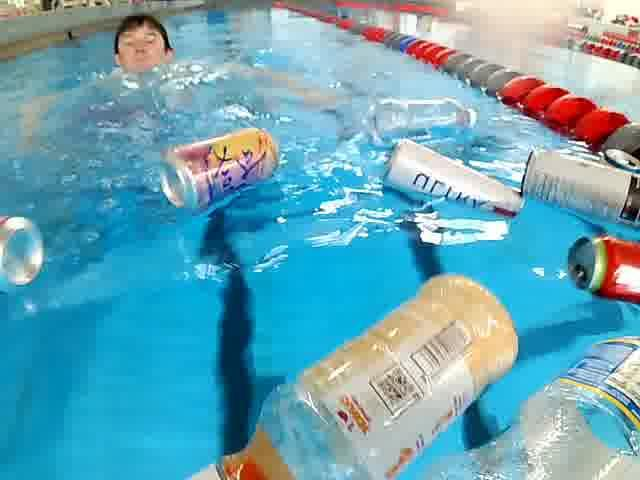Bottle: (165, 252, 539, 480), (432, 324, 637, 480)
Can: (380, 124, 532, 244), (152, 106, 293, 224), (520, 128, 640, 228), (563, 229, 640, 316), (0, 201, 67, 291)
